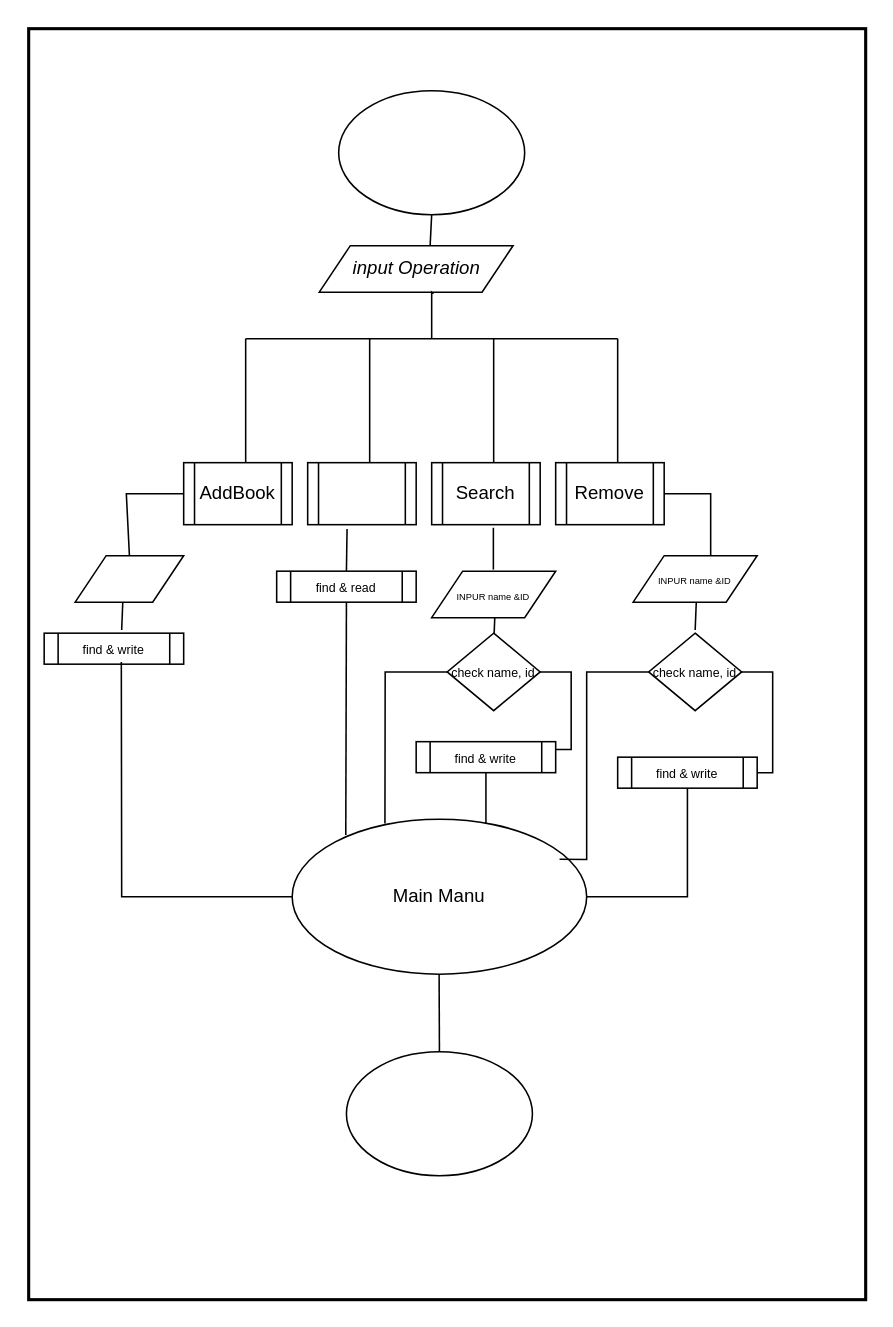
The diagram is 893 pixels wide and 1327 high, and some of its shapes have lost their labels. Here are the shapes that lost their labels. From the top down, the centre of each, then its label:
At (x=431, y=152): "Strat with Menu".
At (x=361, y=493): "Read Info".
At (x=129, y=578): "INPUR INFO".
At (x=438, y=1113): "Exit".
